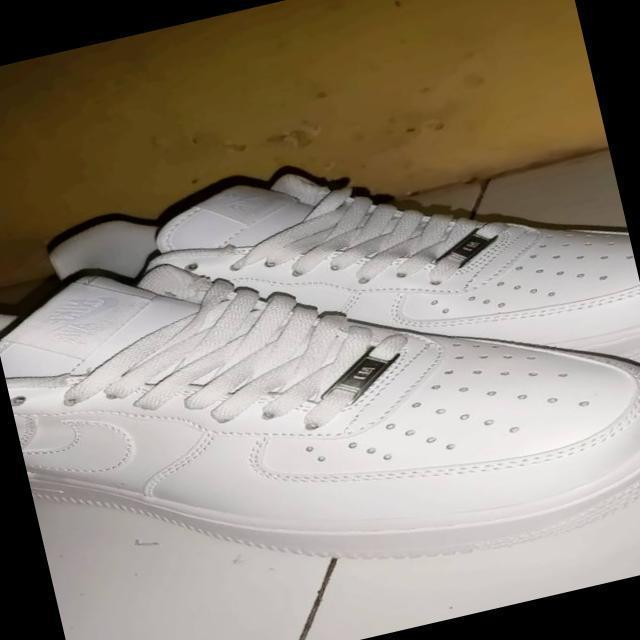nike original air force: (0, 149, 640, 640), (0, 92, 640, 475)
